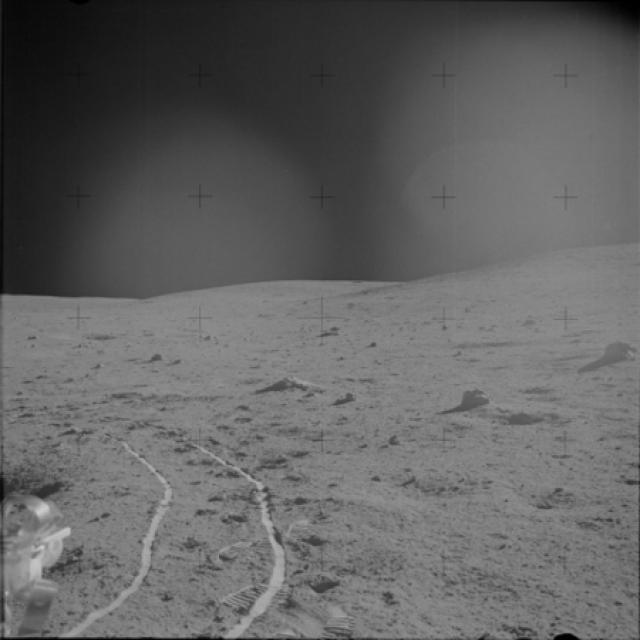crater: (508, 477, 603, 518), (458, 404, 559, 430)
rock: (262, 366, 316, 404), (444, 388, 501, 414), (588, 340, 638, 365), (375, 430, 409, 446), (339, 388, 368, 404), (147, 349, 171, 364)
